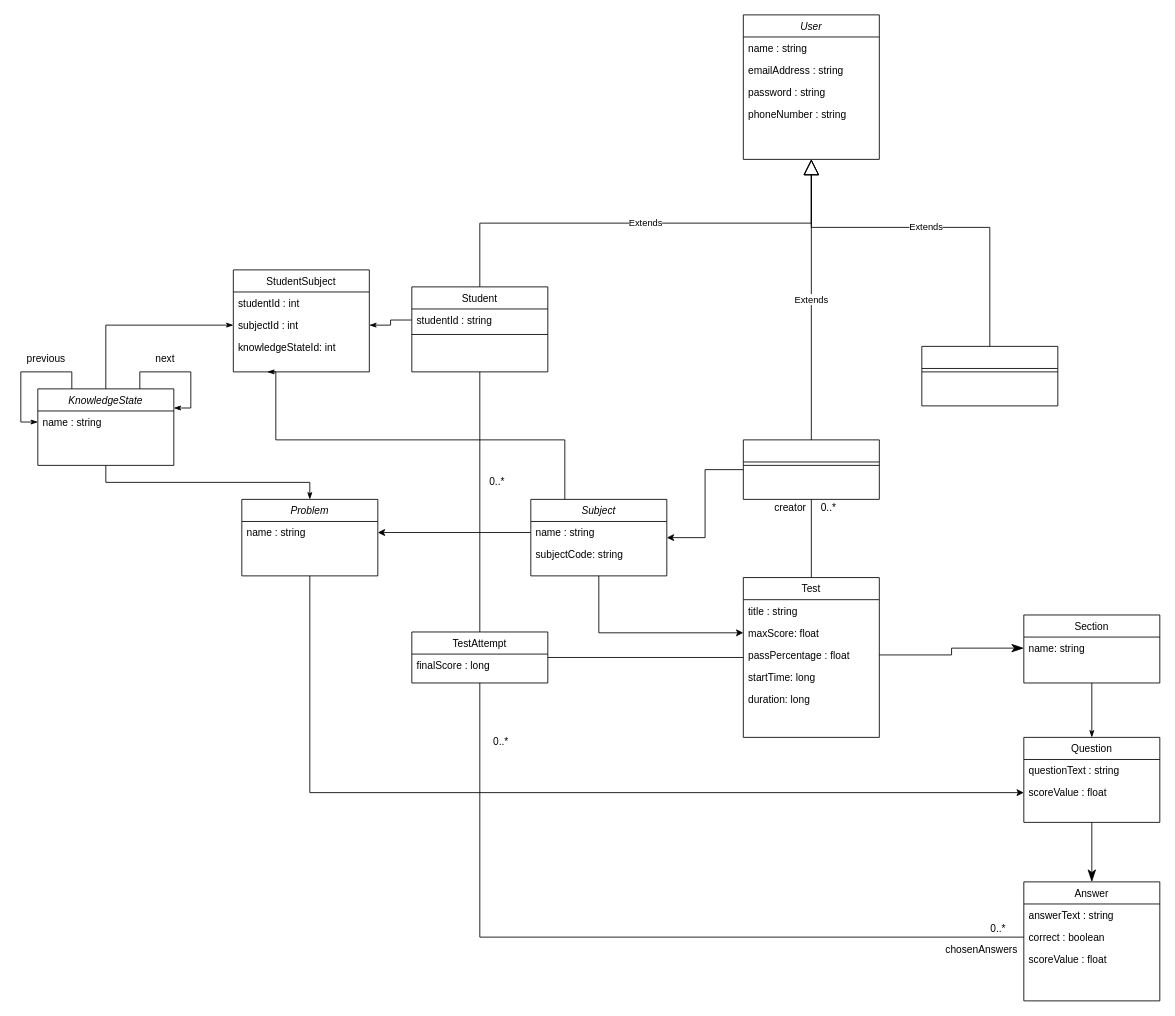
The diagram is 1175 pixels wide and 1016 high, and some of its shapes have lost their labels. Here are the shapes that lost their labels. From the top down, the centre of each, then its label:
the point at 989,376: Administrator
the point at 810,469: Professor
